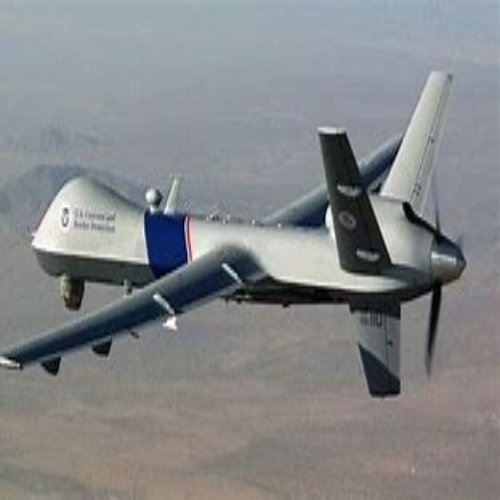uav: (1, 70, 468, 398)
